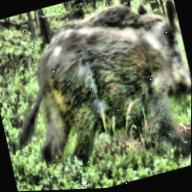boar: (11, 0, 192, 192)
